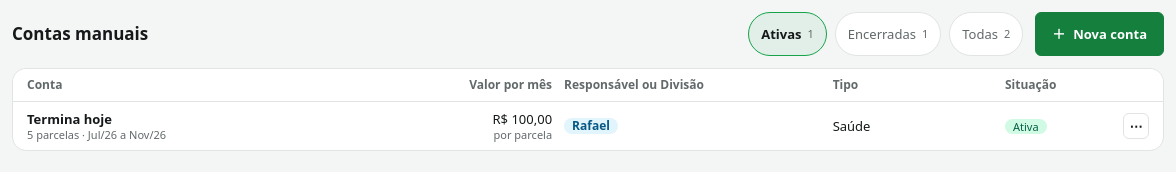
Test: ContasManuais › filtros › a parcelada cuja última parcela já passou é Encerrada; a que termina neste Mês ainda é Ativa
Step 1. Click the button "Encerradas 1" → [888, 34], box [835,12,941,56]
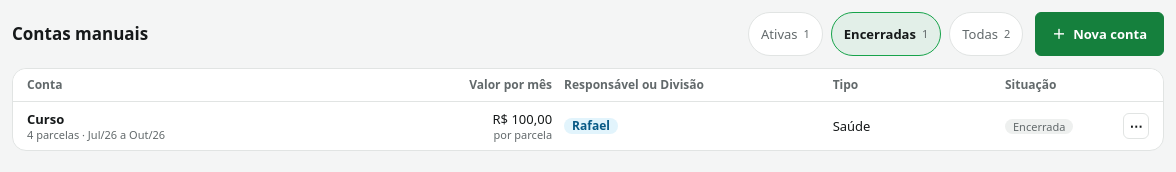
Result: the cell "Curso 4 parcelas · Jul/26 a Out/26" is shown at [27,110,165,142]
